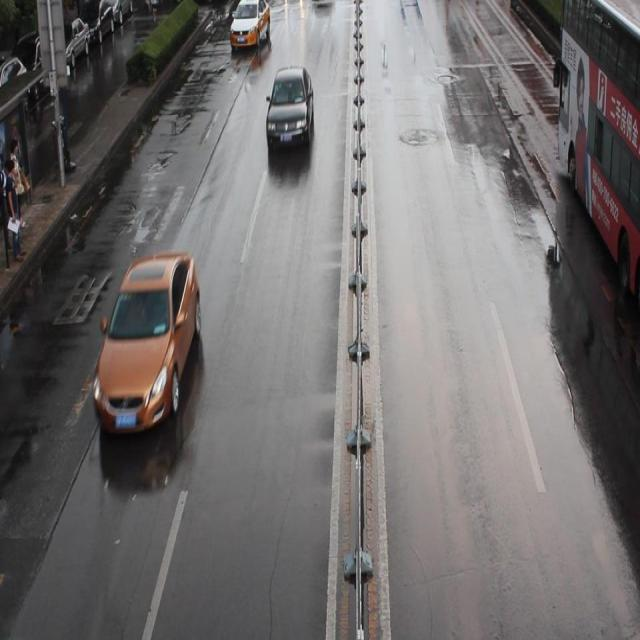car: (93, 249, 201, 437), (265, 66, 313, 148), (228, 1, 271, 49)
van: (555, 1, 640, 308)
